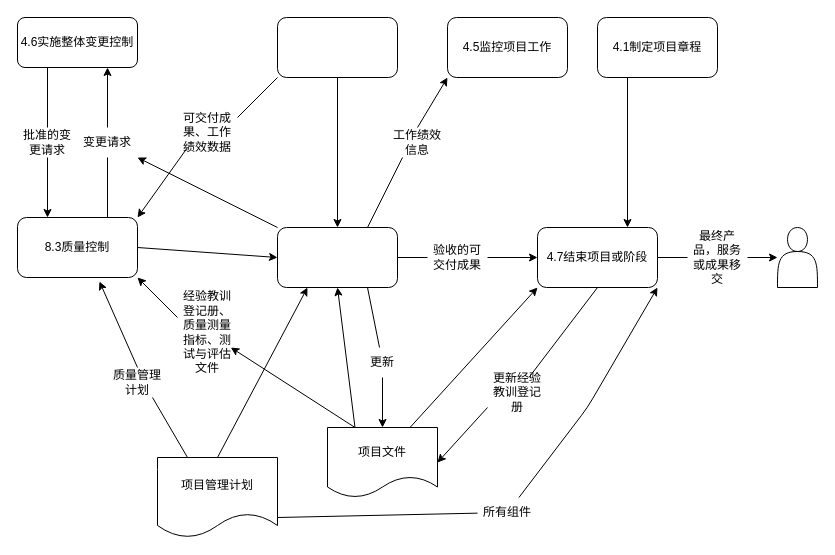
Image size: 835x555. Some labels were removed from this diagram. Each missing label, with the centre of its shape:
"4.3指导与管理项目执行" goes at (x=337, y=47).
"5.5确认范围" goes at (x=337, y=257).
"客户" goes at (x=797, y=257).
